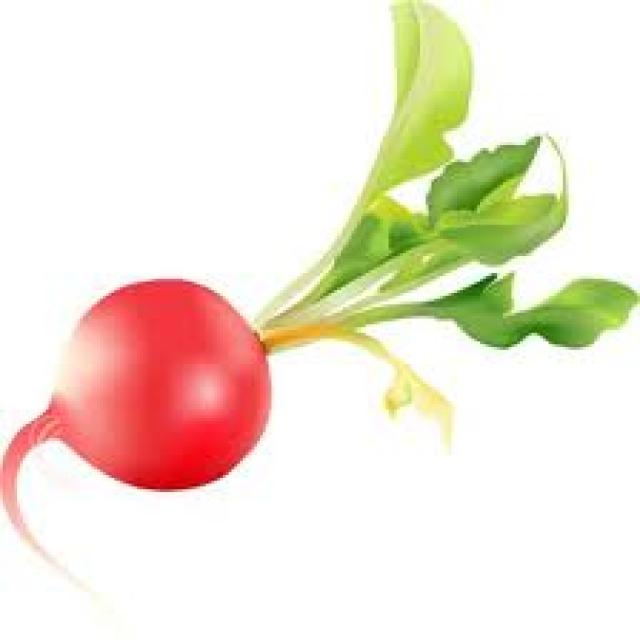radish: (0, 0, 631, 583)
